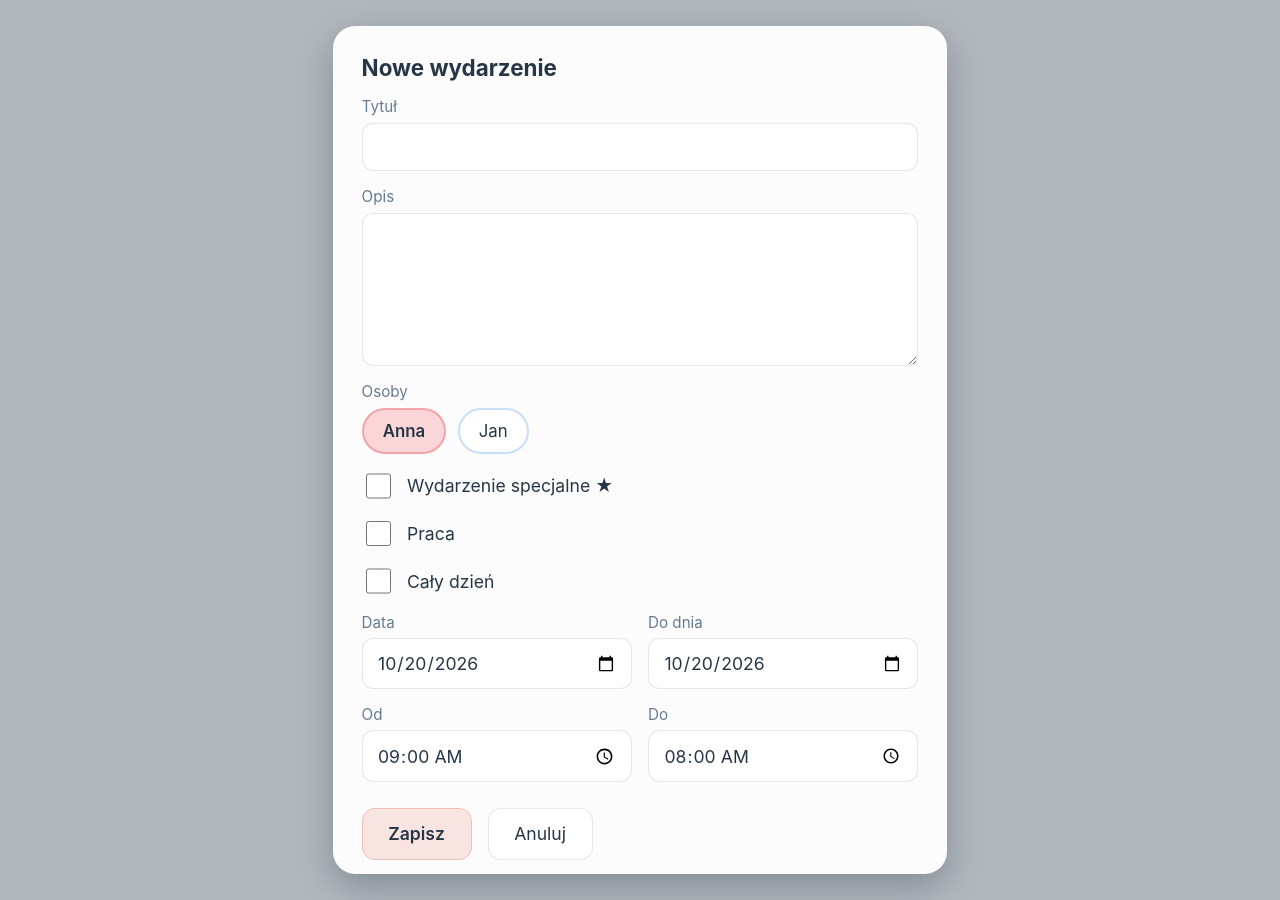
EventDialog › shows validation errors and does not save
Click the button "Zapisz": (417, 834) [362,808,472,860]
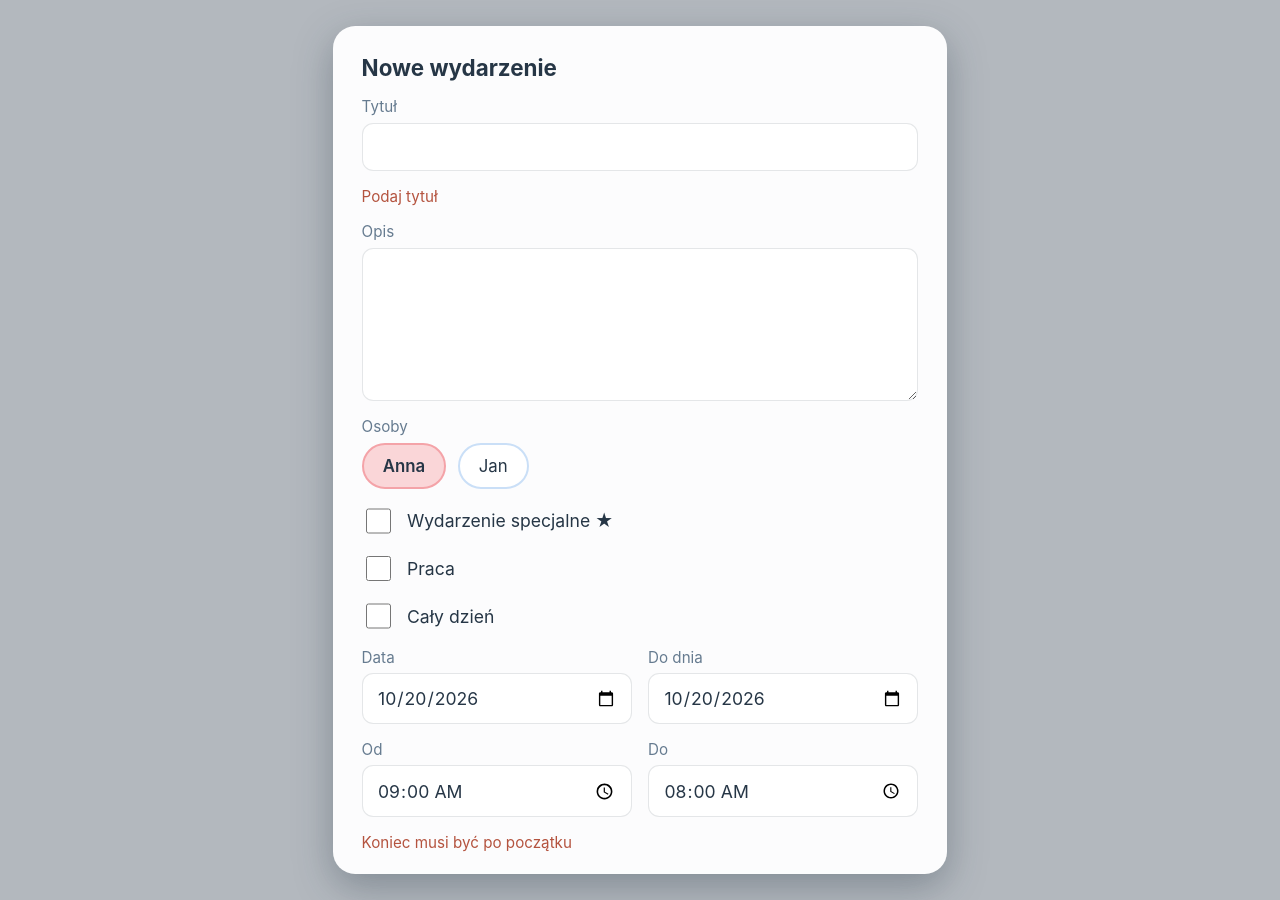
Now the messages read "Podaj tytuł", "Koniec musi być po początku", in this order, box [362,187,438,206]; [362,833,572,852]
